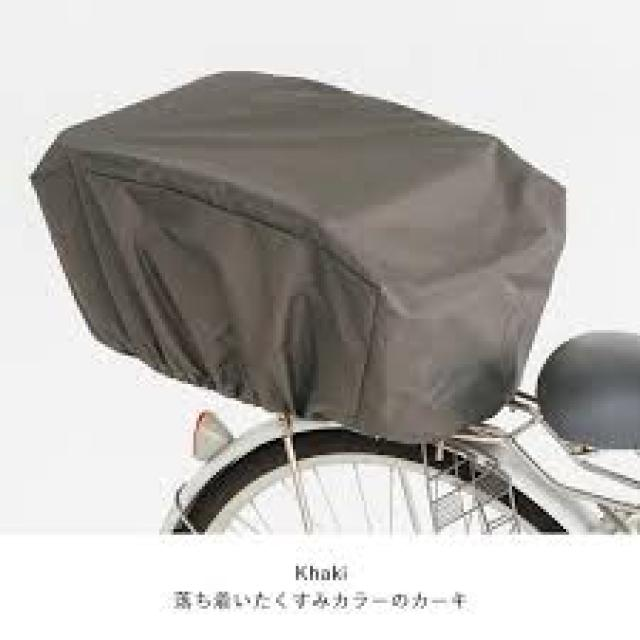basket: (29, 70, 566, 444)
